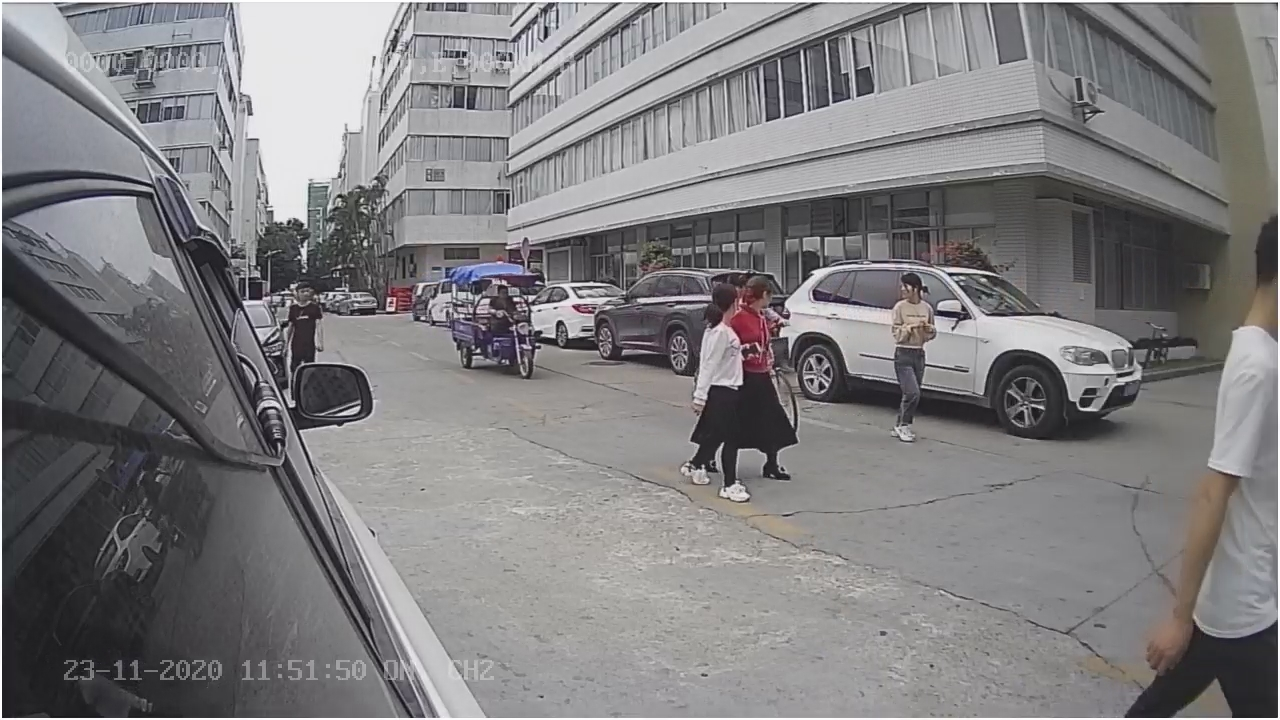person: (678, 284, 762, 504), (880, 270, 940, 449)
